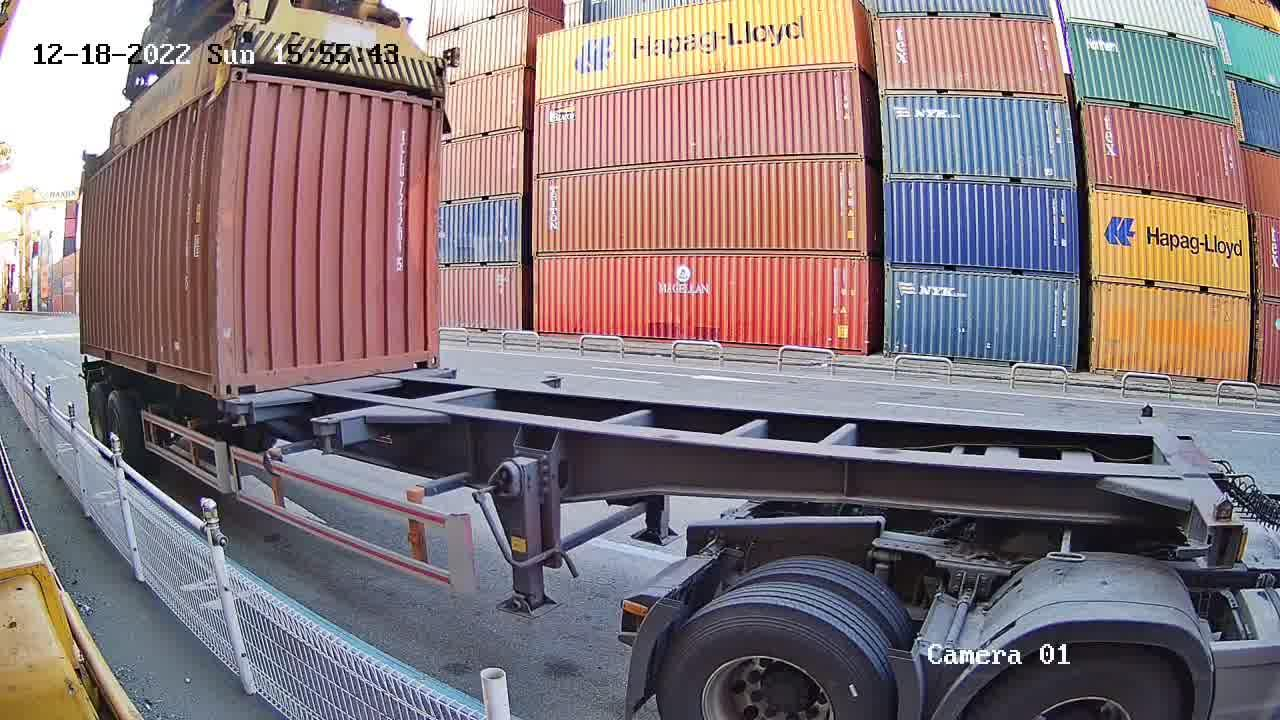Chassis: (234, 367, 457, 408)
Cone: (234, 403, 249, 430), (215, 400, 230, 426)
Hole_L: (222, 356, 264, 398)
Hole_R: (188, 353, 218, 399), (406, 333, 441, 370)
Tire: (656, 603, 889, 719), (965, 642, 1185, 716)
